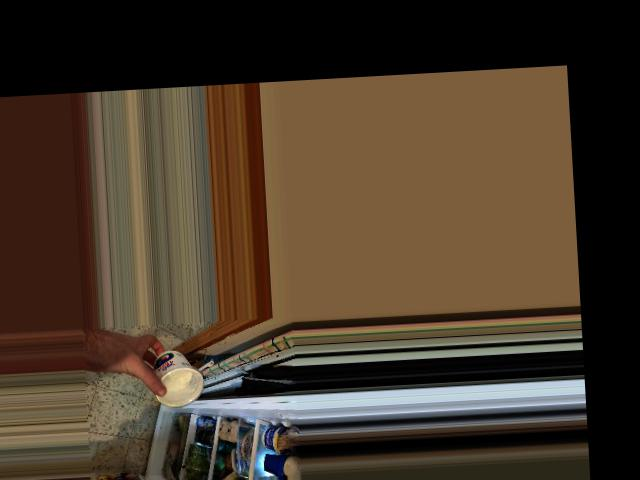cotage: (144, 342, 206, 408)
